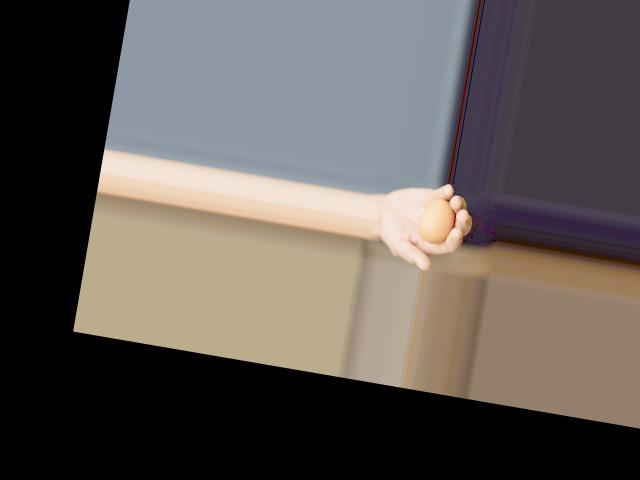egg: (416, 195, 456, 245)
